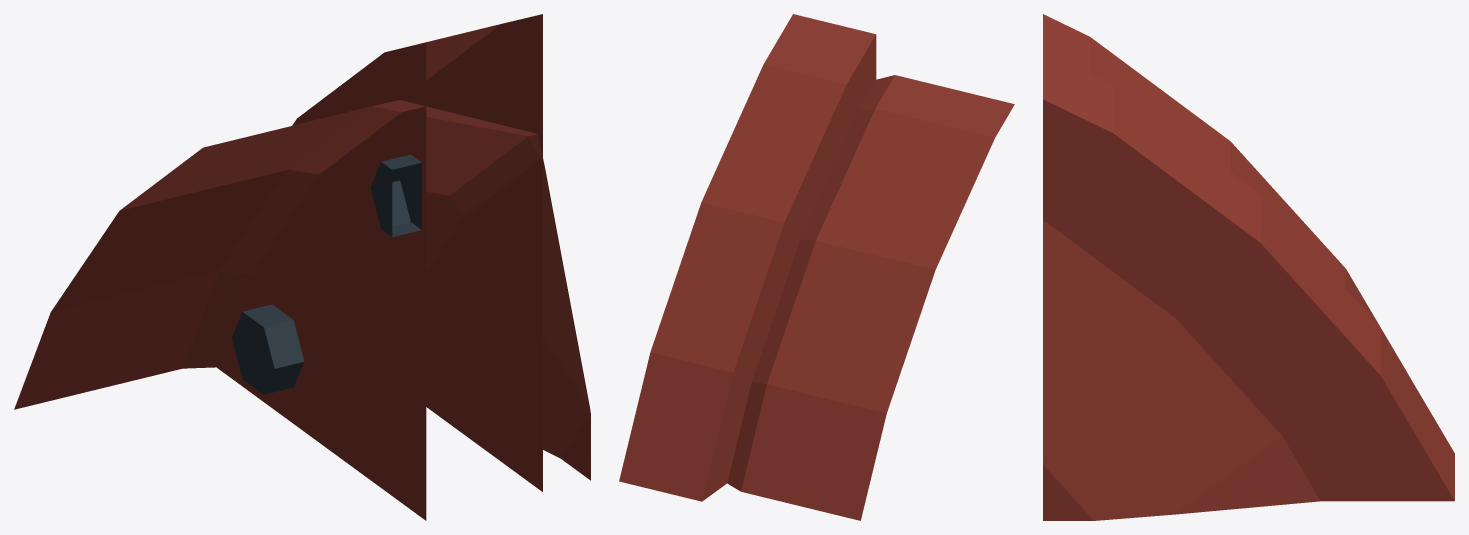
The model's file is cell_57.obj.
3 renders of one model, left to right at view 1: azimuth 30°, elevation 25°; view 2: azimuth 150°, elevation 25°; view 3: azimuth 270°, elevation 25°, orthographic. The views are drawn at different scales.
Bounding box in the file's own units: 0.3725 × 0.4732 × 0.4392.
